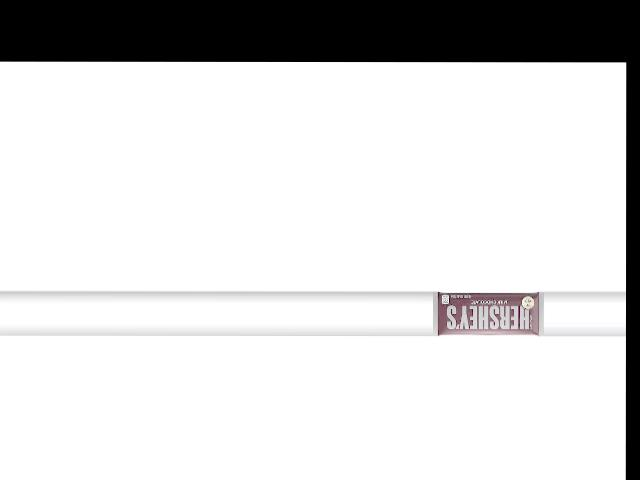chocolate: (432, 286, 541, 334)
